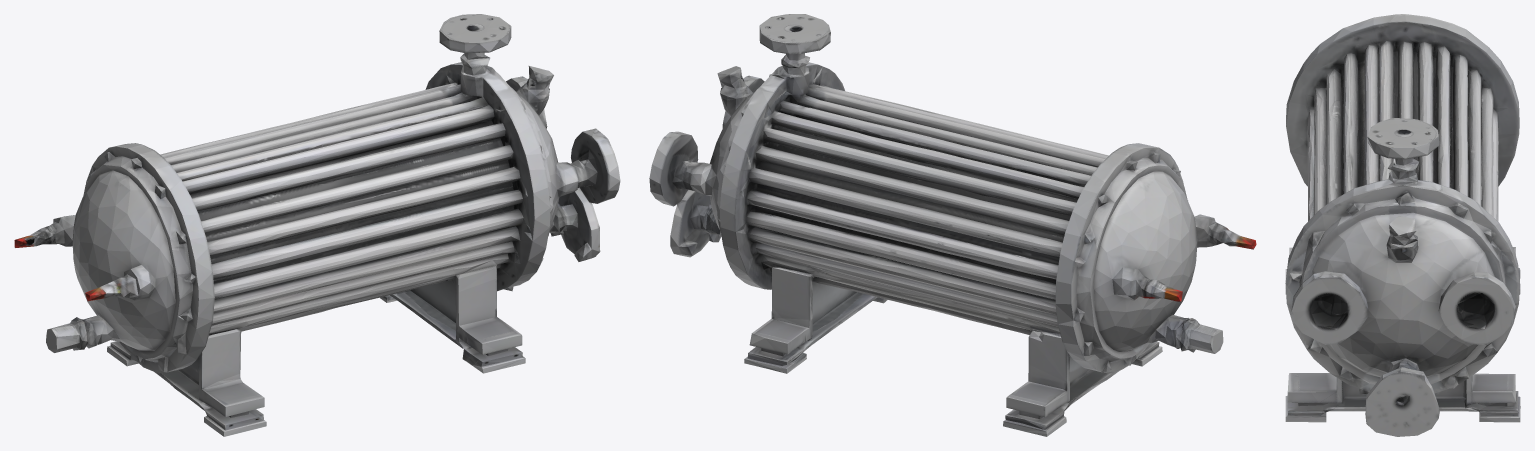
Rendered from Intercambiadores.fbx.
3 renders of one model, left to right at view 1: azimuth 30°, elevation 25°; view 2: azimuth 150°, elevation 25°; view 3: azimuth 270°, elevation 25°, orthographic.
Parts seen in each view (by area): view 1: temp; view 2: temp; view 3: temp.
Part boxes in pixels (bbox=[...]): temp: bbox=[14, 14, 620, 436]; temp: bbox=[649, 14, 1256, 436]; temp: bbox=[1285, 14, 1520, 436].
Bounding box in the file's own units: 200 × 105 × 76.21.
1 material, 1 textured.
